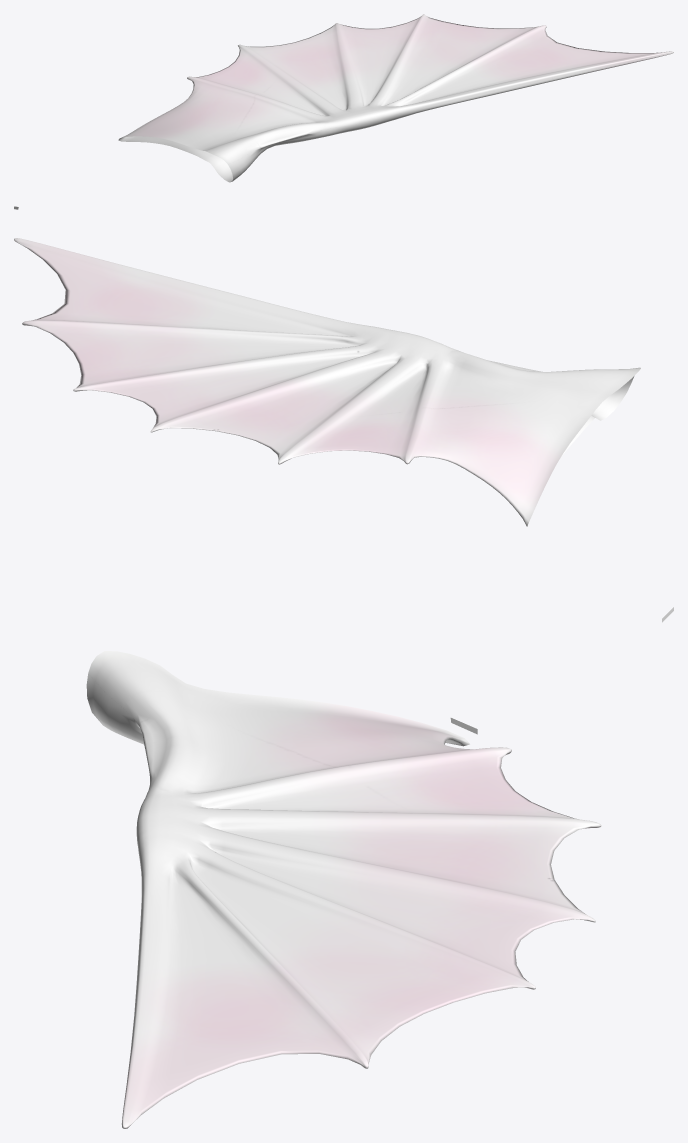
File: alaizqd1.obj
The picture shows the model from 3 angles, top to bottom: view 1: azimuth 30°, elevation 25°; view 2: azimuth 150°, elevation 25°; view 3: azimuth 270°, elevation 25°; orthographic projection. The views are drawn at different scales.
Parts seen in each view (by area): view 1: alader1; view 2: alader1; view 3: alader1.
Boxes of the visible parts, x1,y1,x2,y2 form: alader1: [14, 14, 673, 209]; alader1: [14, 238, 673, 622]; alader1: [86, 651, 601, 1128].
Bounding box in the file's own units: 0.6948 × 0.1098 × 0.2698.
1 material, 1 textured.
